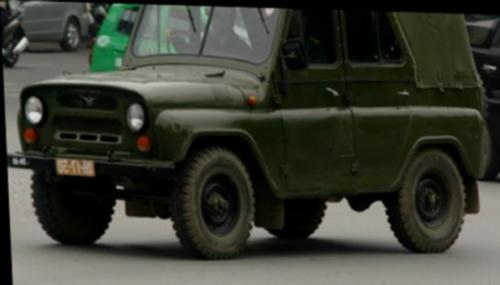License_Plate: (54, 158, 96, 179)
